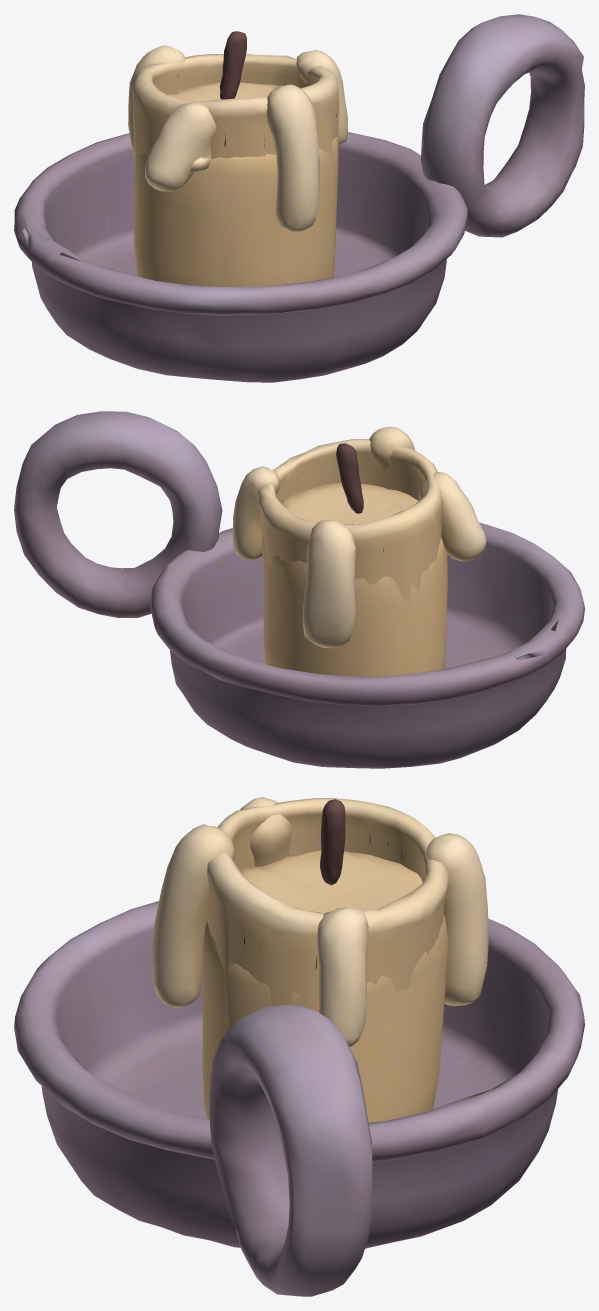
Rendered from vela_santa.glb.
3 views of the same model, one above another, from view 1: azimuth 30°, elevation 25°; view 2: azimuth 150°, elevation 25°; view 3: azimuth 270°, elevation 25° (orthographic). The views are drawn at different scales.
Parts seen in each view (by area): view 1: reliquia_1; view 2: reliquia_1; view 3: reliquia_1.
Part boxes in pixels (x1,y1,x2,y2): reliquia_1: (14,14,584,382); reliquia_1: (14,411,584,768); reliquia_1: (14,797,584,1296).
Size of the model in its own units: 0.398 by 0.1968 by 0.2767.
1 material, 1 textured.
